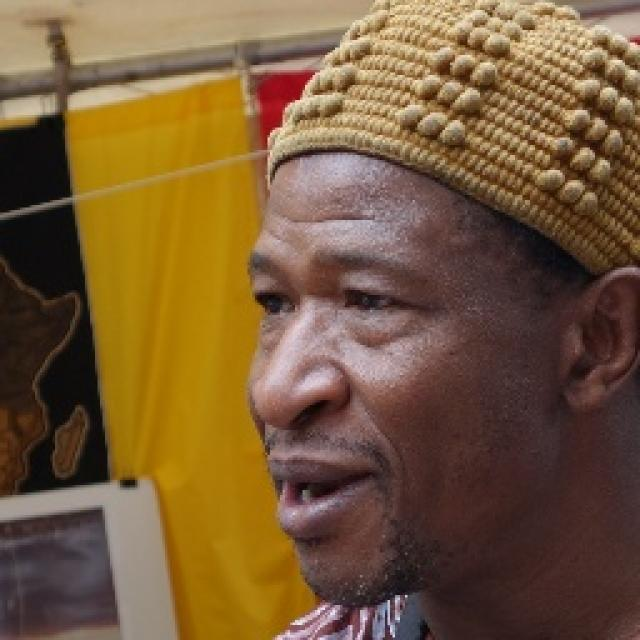earlobe: (564, 266, 640, 416)
